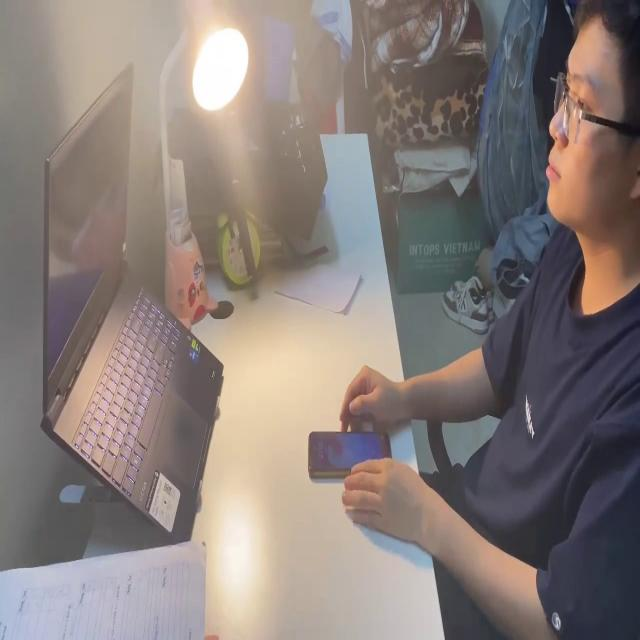book: (0, 535, 208, 640), (276, 248, 366, 320)
laptop: (39, 58, 222, 538)
phone: (307, 422, 394, 478)
student: (339, 1, 640, 640)
